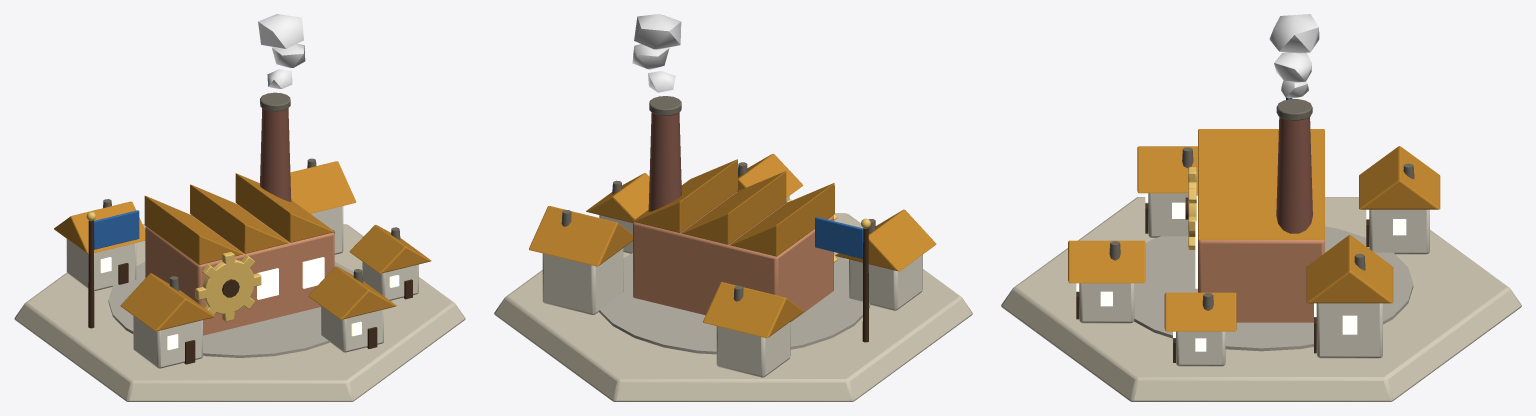
File: district-app.glb
The picture shows the model from 3 angles, left to right: view 1: azimuth 30°, elevation 25°; view 2: azimuth 150°, elevation 25°; view 3: azimuth 270°, elevation 25°; orthographic projection. The views are drawn at different scales.
Visible parts, largest first — view 1: district-app; view 2: district-app; view 3: district-app.
Part boxes in pixels (x1,y1,x2,y2): district-app: (14,14,465,401); district-app: (494,14,972,401); district-app: (1001,14,1521,401).
Size of the model in its own units: 1.64 by 1.29 by 1.89.
